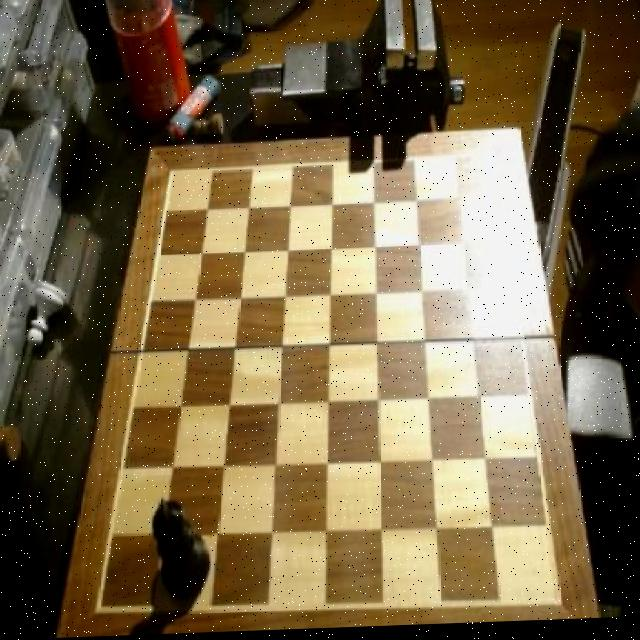black-bishop: (151, 497, 214, 609)
